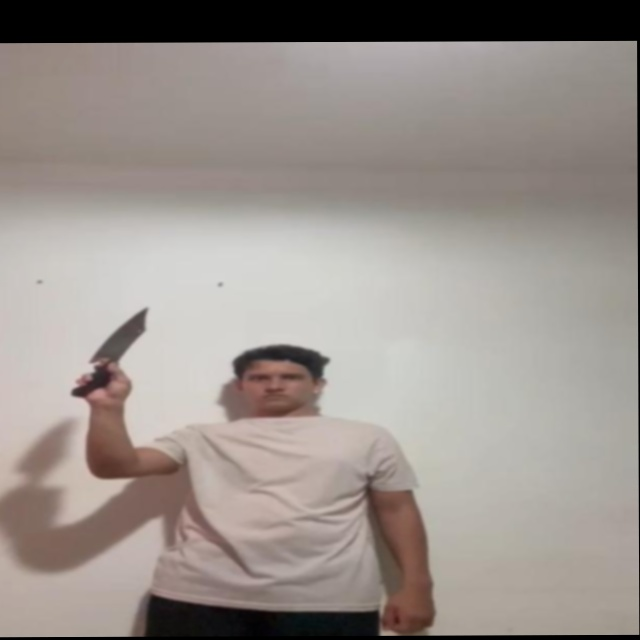Sharp-Object: (95, 309, 150, 357)
